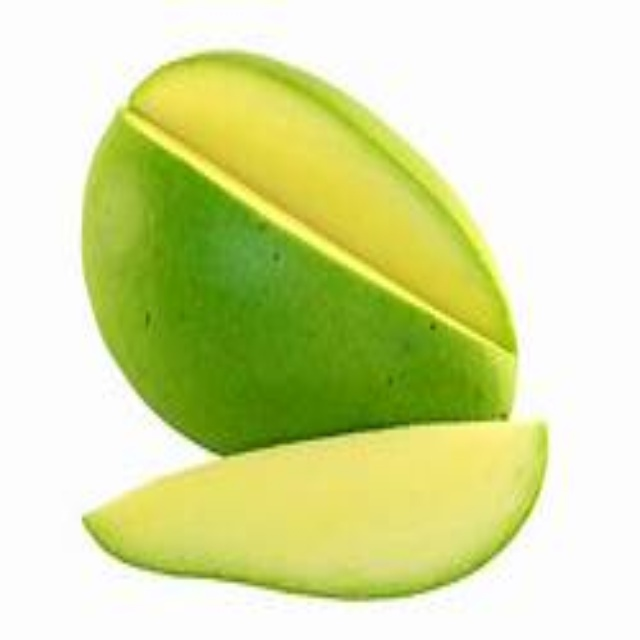mango: (83, 51, 552, 604)
